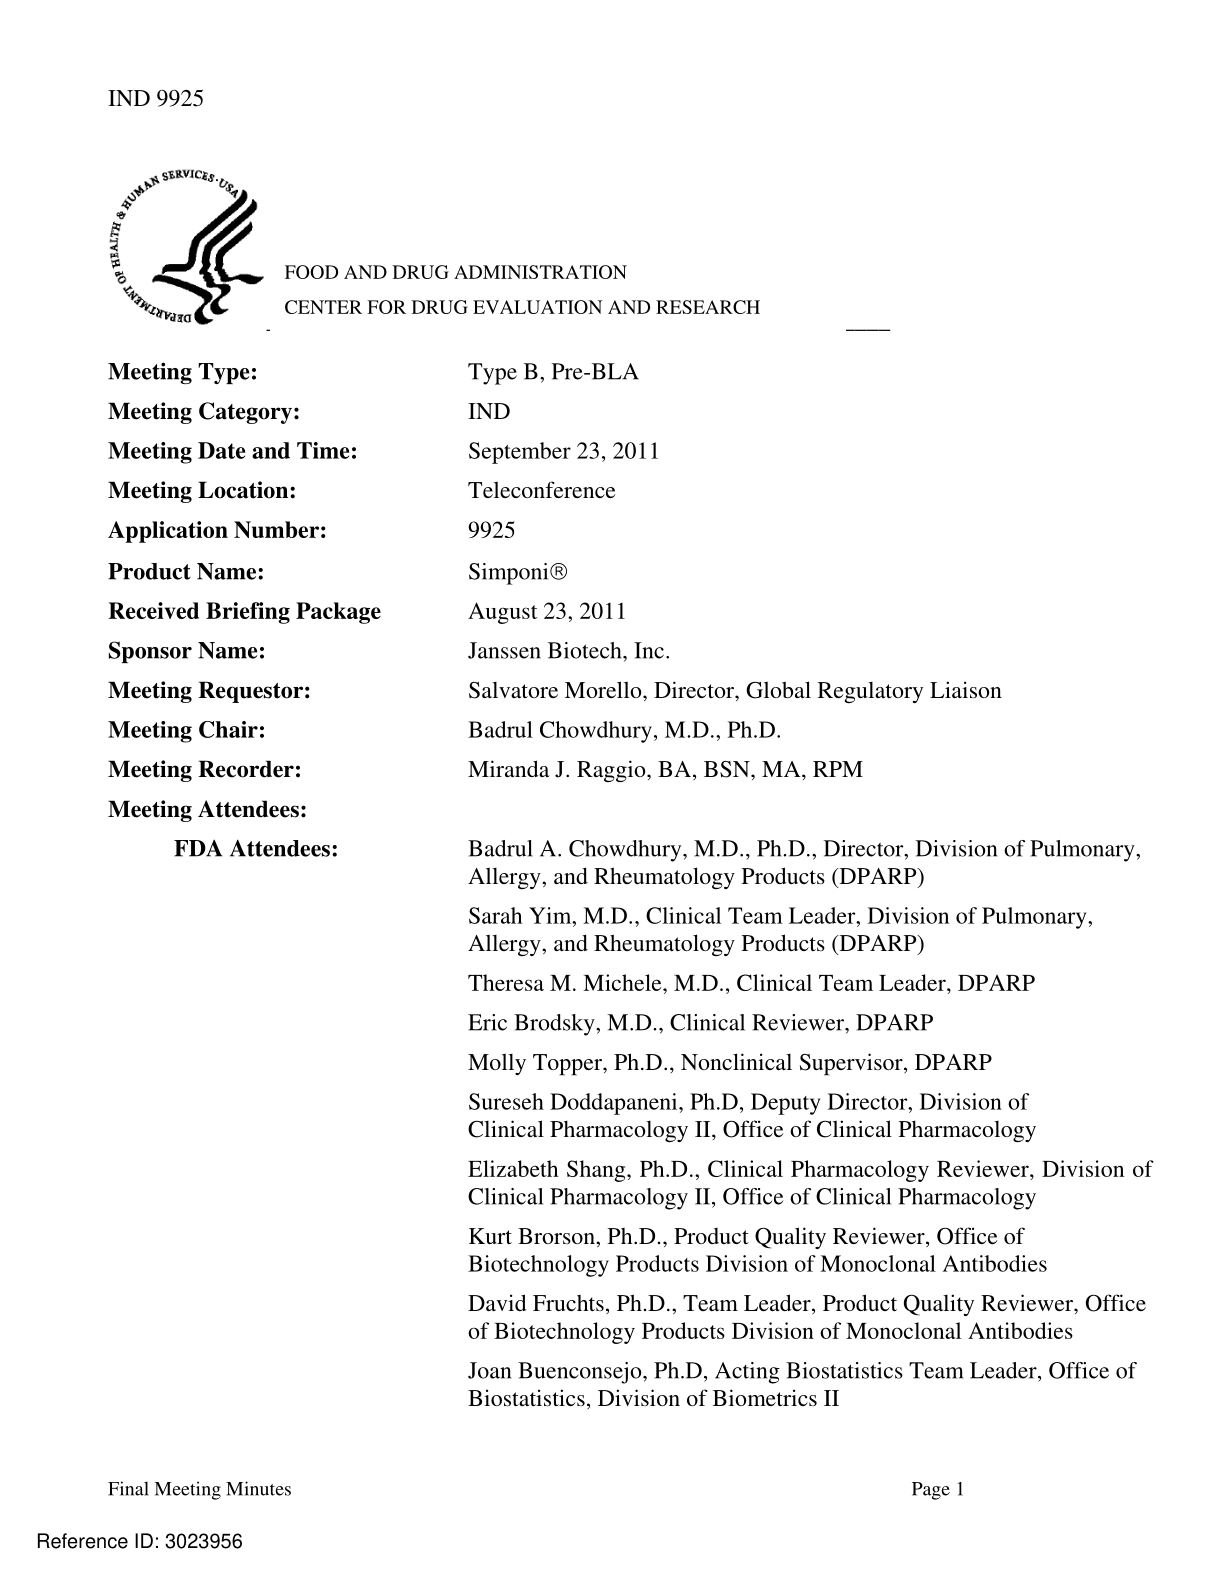nolines: (103, 357, 1156, 1409)
